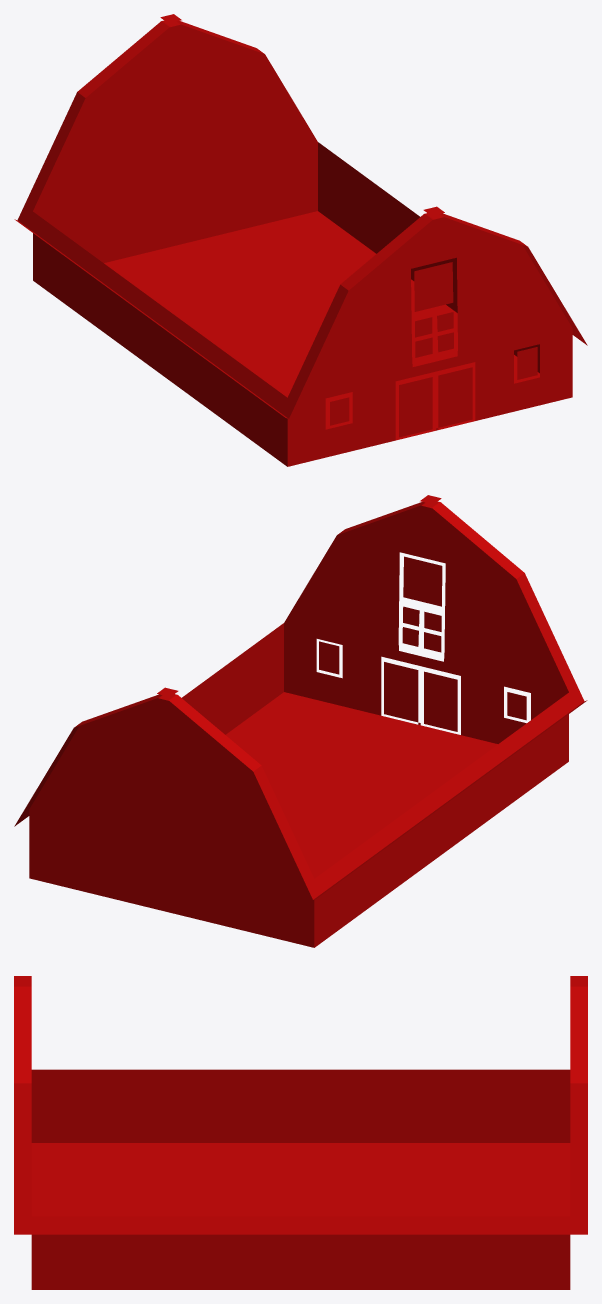
File: scheune_redpart_3.fbx
3 renders of one model, top to bottom at view 1: azimuth 30°, elevation 25°; view 2: azimuth 150°, elevation 25°; view 3: azimuth 270°, elevation 25°, orthographic. The views are drawn at different scales.
Visible parts, largest first — view 1: polySurface10; view 2: polySurface10; view 3: polySurface10.
Part boxes in pixels (bbox=[...]): polySurface10: bbox=[14, 14, 587, 466]; polySurface10: bbox=[14, 495, 587, 947]; polySurface10: bbox=[14, 976, 587, 1289].
Bounding box in the file's own units: 8.54 × 6.04 × 13.27.
